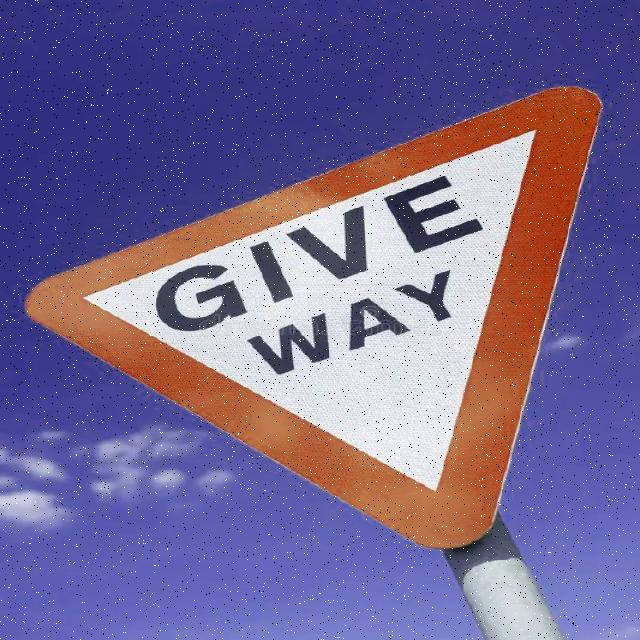giveway: (16, 86, 612, 548)
